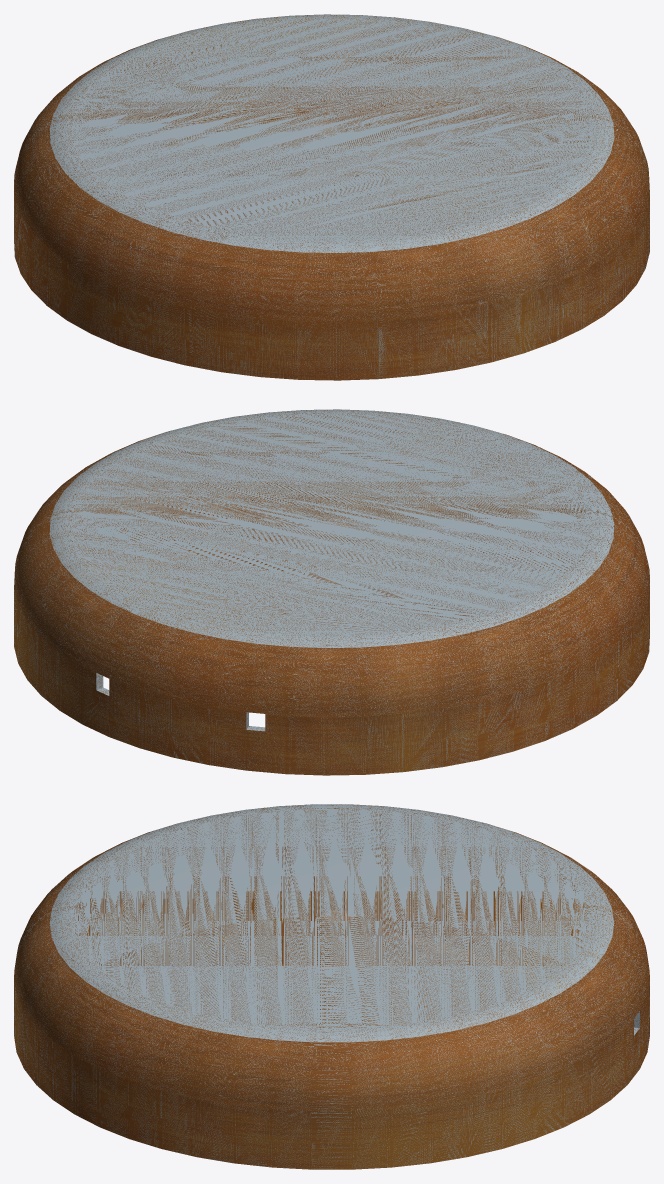
Rendered from instr06.fbx.
3 views of the same model, one above another, from view 1: azimuth 30°, elevation 25°; view 2: azimuth 150°, elevation 25°; view 3: azimuth 270°, elevation 25° (orthographic).
Parts seen in each view (by area): view 1: Component_10_1; view 2: Component_10_1; view 3: Component_10_1.
Part boxes in pixels (bbox=[...]): Component_10_1: bbox=[14, 14, 649, 380]; Component_10_1: bbox=[14, 409, 649, 775]; Component_10_1: bbox=[14, 804, 649, 1169].
Bounding box in the file's own units: 49.36 × 10.01 × 49.46.
